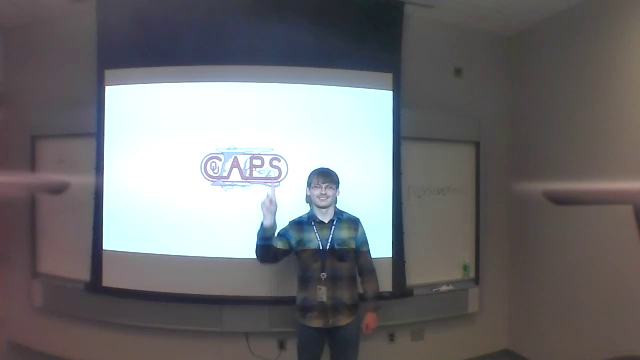up: (256, 179, 283, 219)
